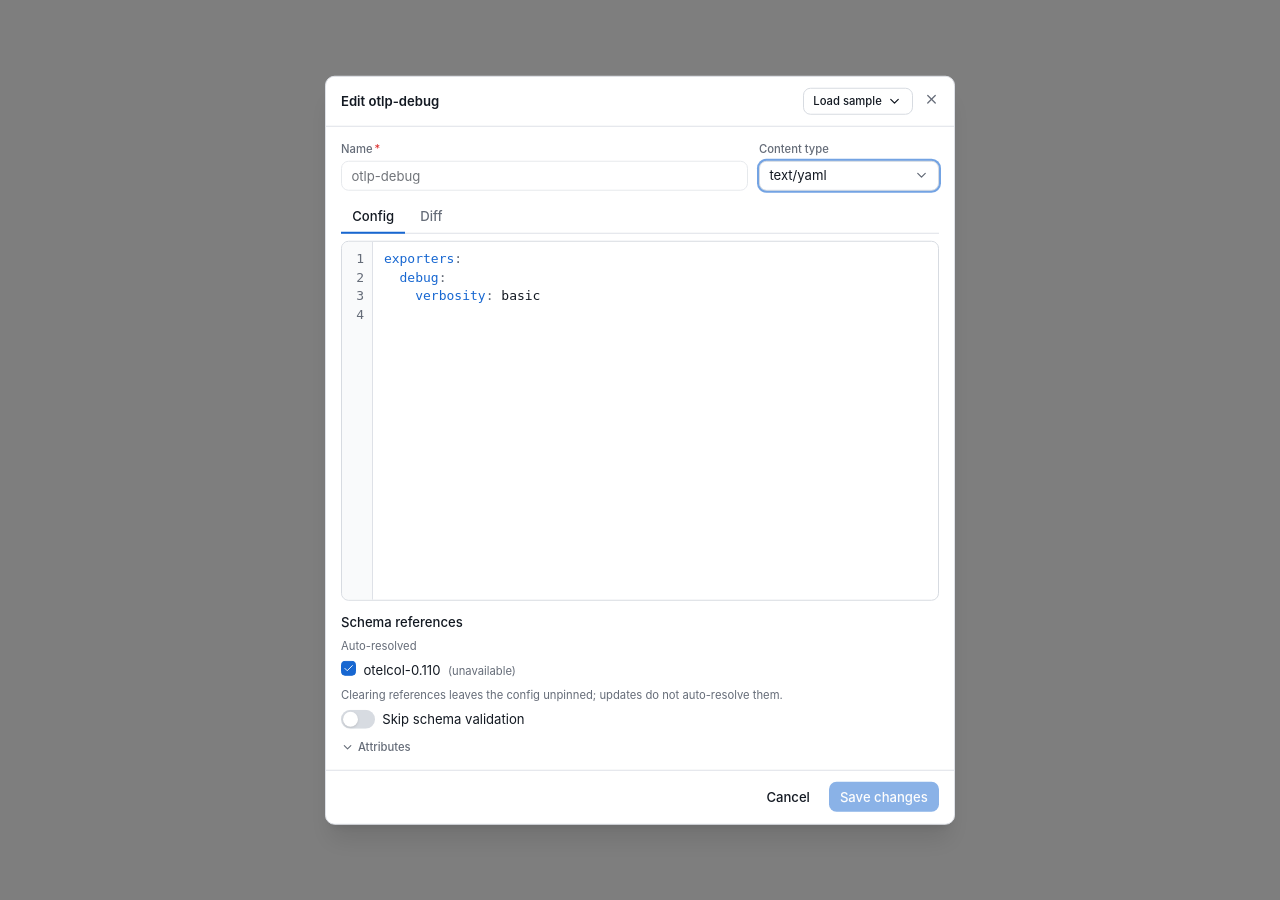
AgentRemoteConfigEditDialog › surfaces the server problem detail when the save is rejected
Clear the text box named "config body" at (655, 421), box 373,242 -> 938,600
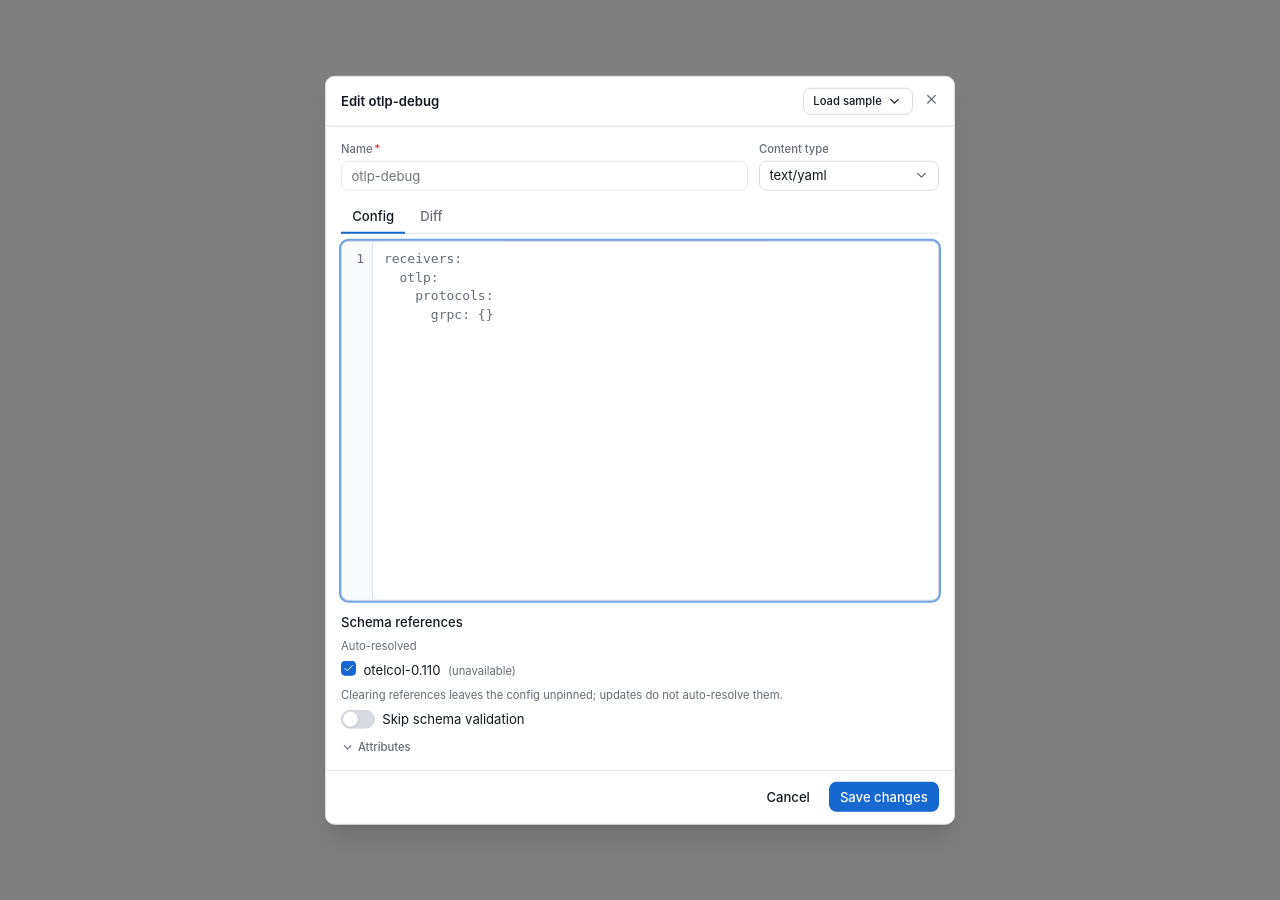
Click the button "Save changes" at (884, 797), box 829,782 -> 939,812
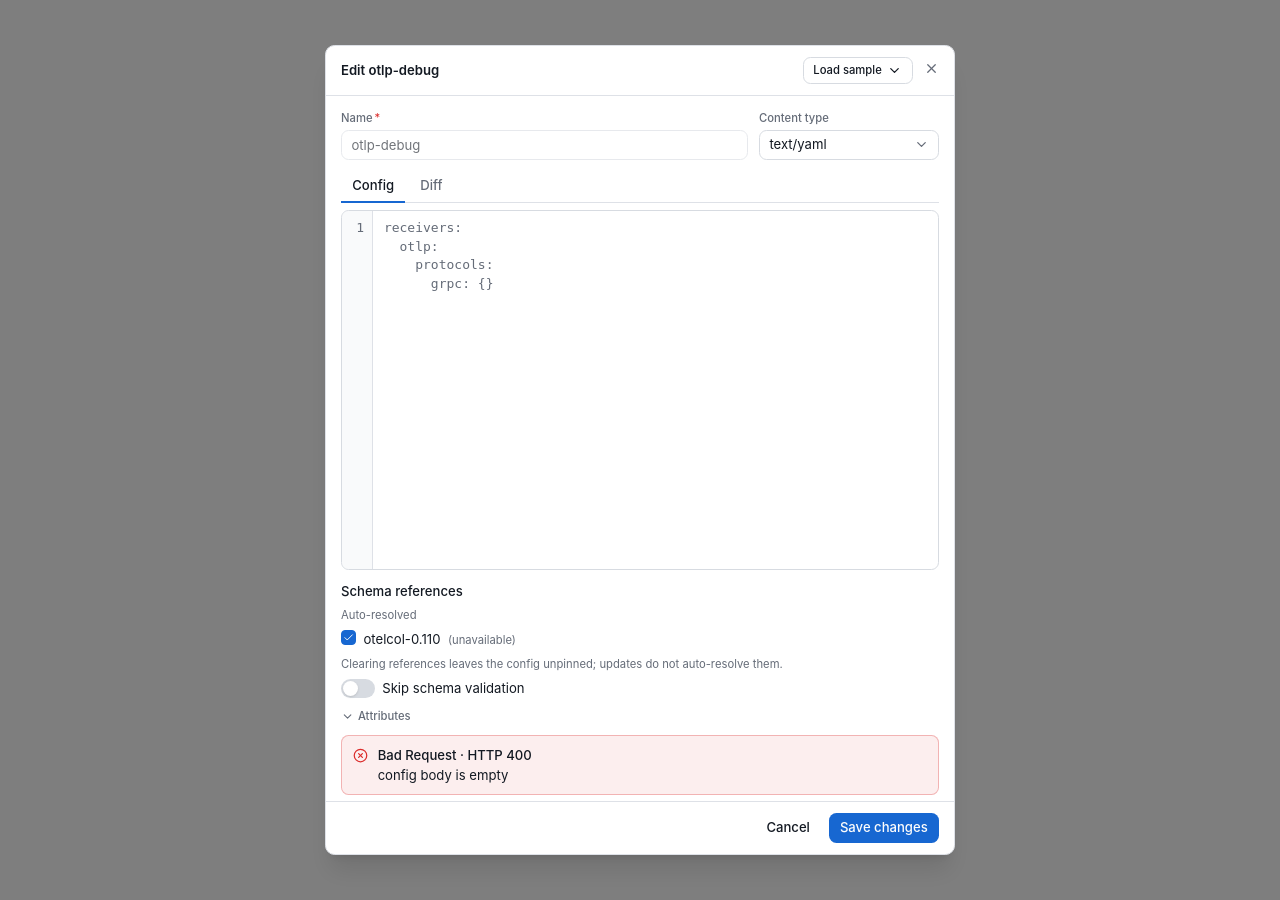
expect the text "config body is empty" is shown: met, box 378,767 -> 508,783
expect the text "Bad Request · HTTP 400" is shown: met, box 378,747 -> 532,763
